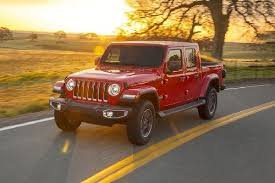mobil: (49, 38, 223, 136)
